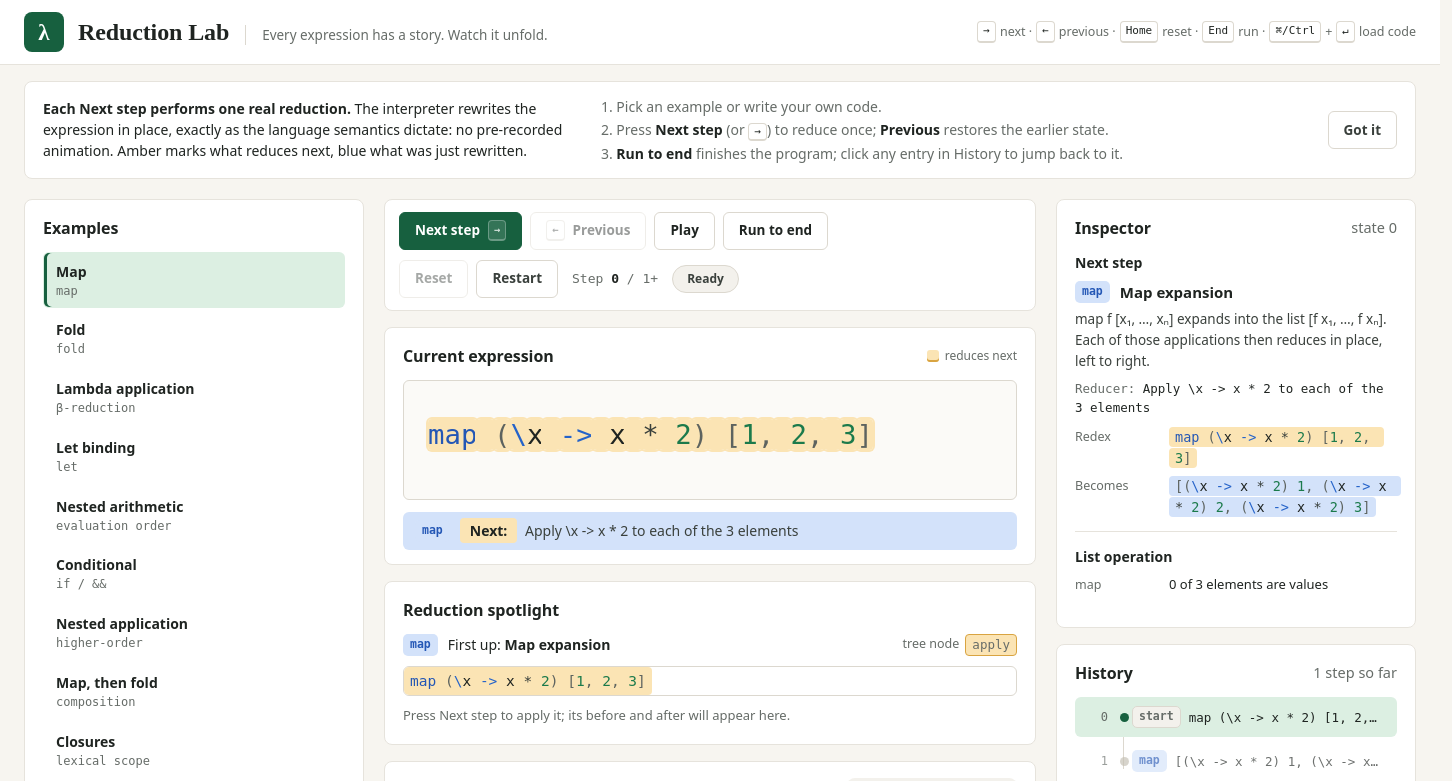
stepping through the real reducer › shows the rule explanation and the latest rewrite
The width and height of the screenshot is (1452, 781).
Check: the element labelled "Next step" shows "Map expansion", box [1120, 282, 1233, 302]
Click the button "Next step →" at point(461, 230), box [399, 212, 522, 250]
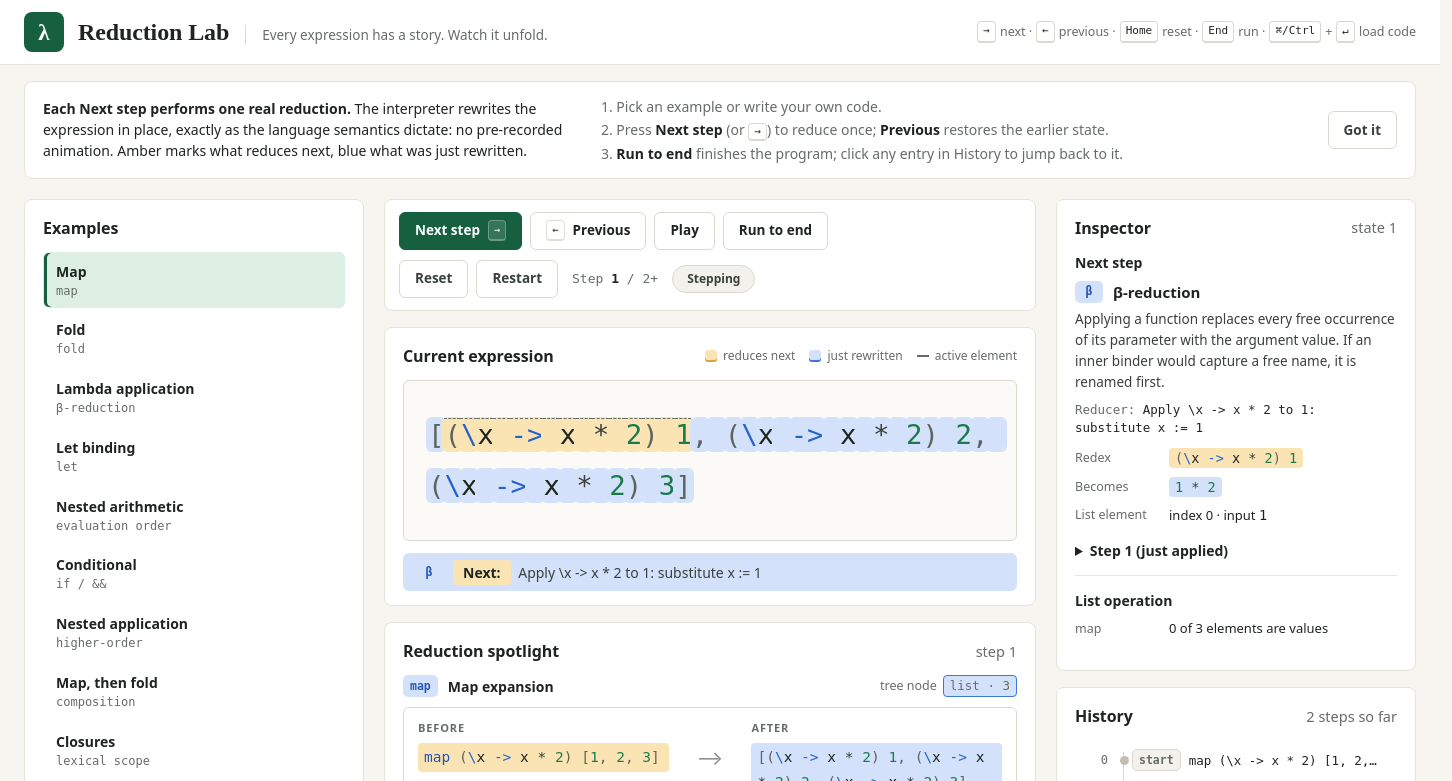
Check: the element named "Latest rewrite" shows "Map expansion", box [448, 677, 554, 696]
Check: the element labelled "Next step" shows "β-reduction", box [1113, 282, 1200, 302]
